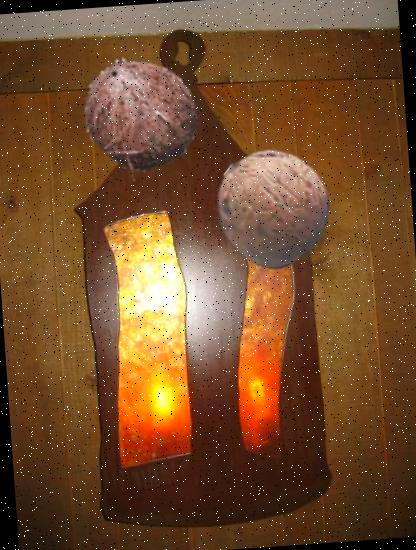Cocos: (78, 50, 208, 180)
Walnut: (210, 144, 334, 270)
